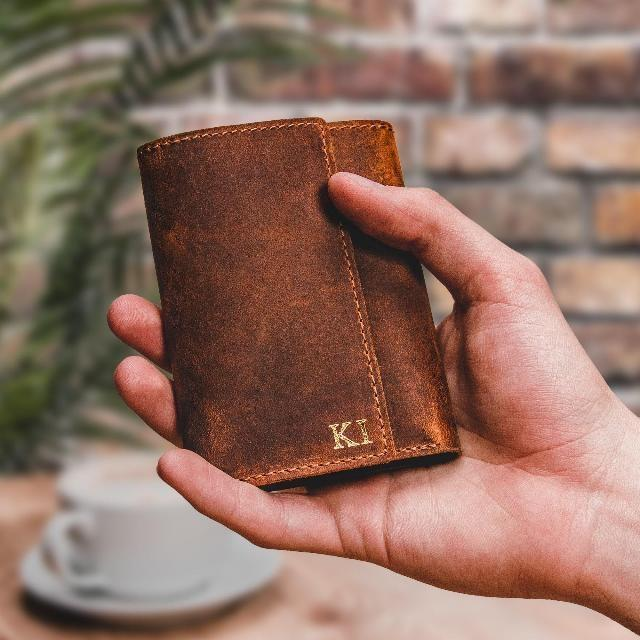Wallet: (138, 118, 458, 490)
